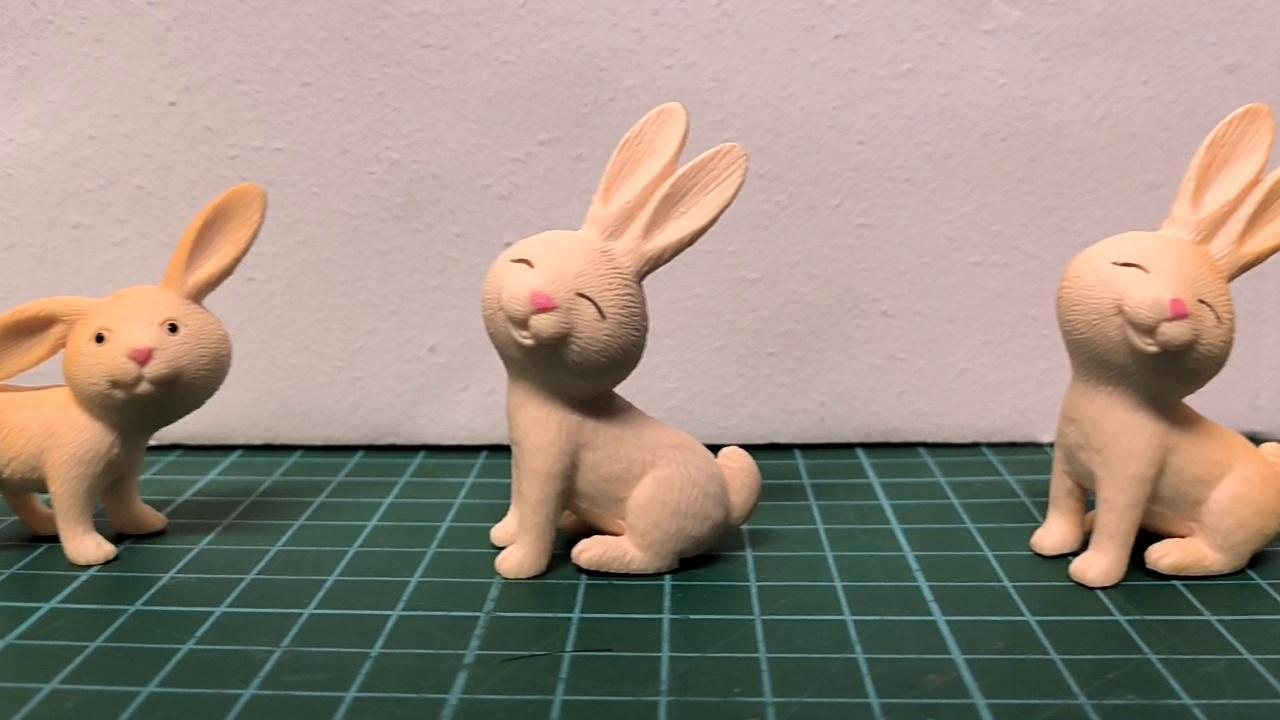pet: (482, 99, 763, 581), (1033, 102, 1280, 587), (0, 182, 269, 564)
